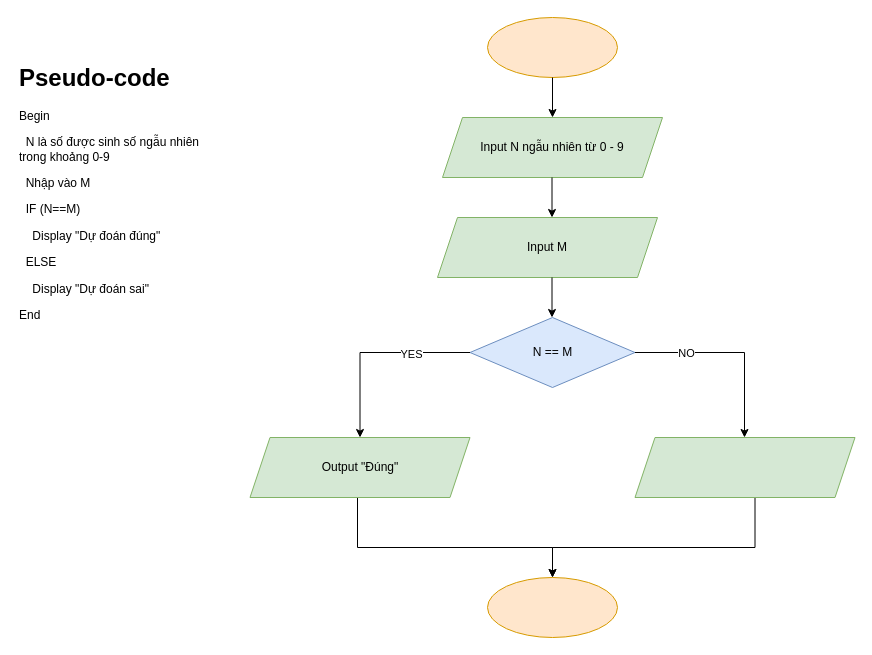
Image size: 872x655. Some labels were removed from this diagram. The centre of each missing label's shape, as x and y in pixels:
Begin: (x=552, y=47)
End: (x=552, y=607)
Output "Sai": (x=744, y=467)
